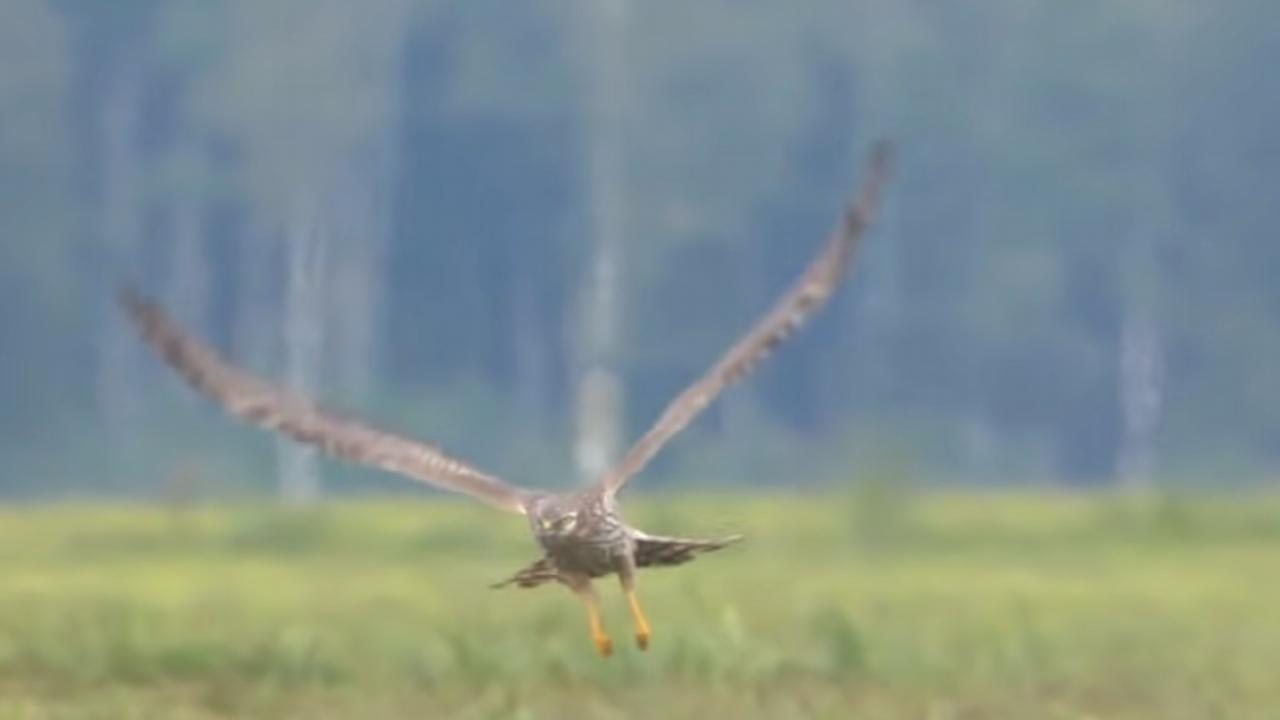Bird: (107, 135, 930, 665)
